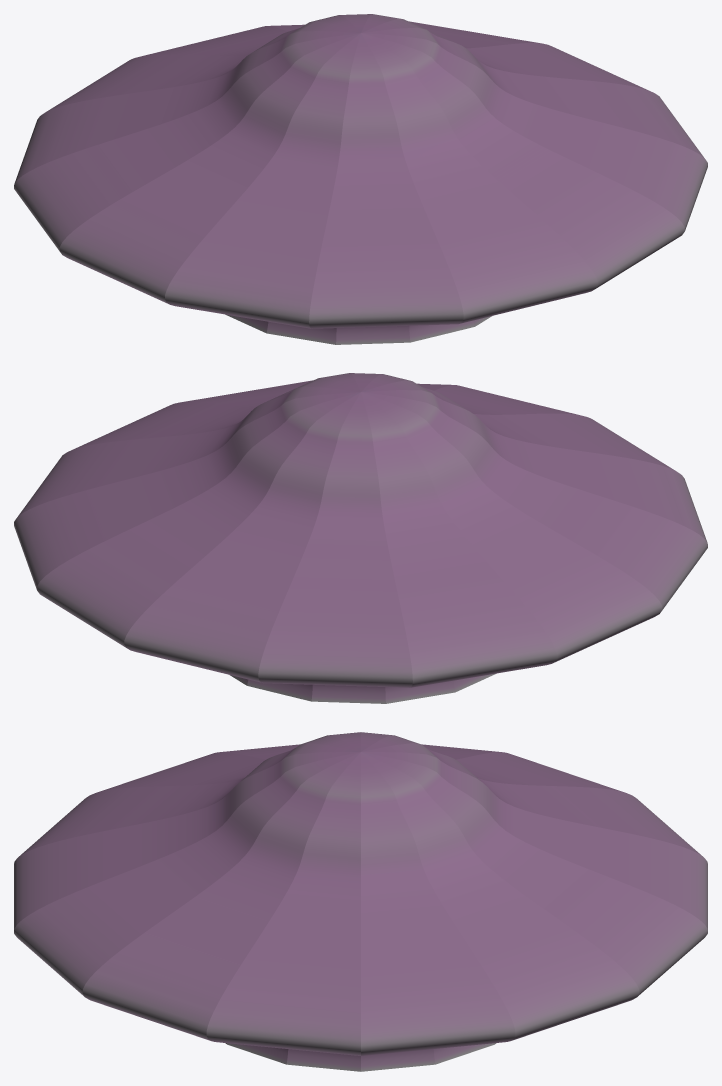
3 renders of one model, top to bottom at view 1: azimuth 30°, elevation 25°; view 2: azimuth 150°, elevation 25°; view 3: azimuth 270°, elevation 25°, orthographic. The views are drawn at different scales.
Visible parts, largest first — view 1: faceted_hull; view 2: faceted_hull; view 3: faceted_hull.
Boxes of the visible parts, <box> form: faceted_hull: <box>14,14,707,344</box>; faceted_hull: <box>14,373,707,703</box>; faceted_hull: <box>14,732,707,1071</box>.
Bounding box in the file's own units: 20 × 7.67 × 19.5.
